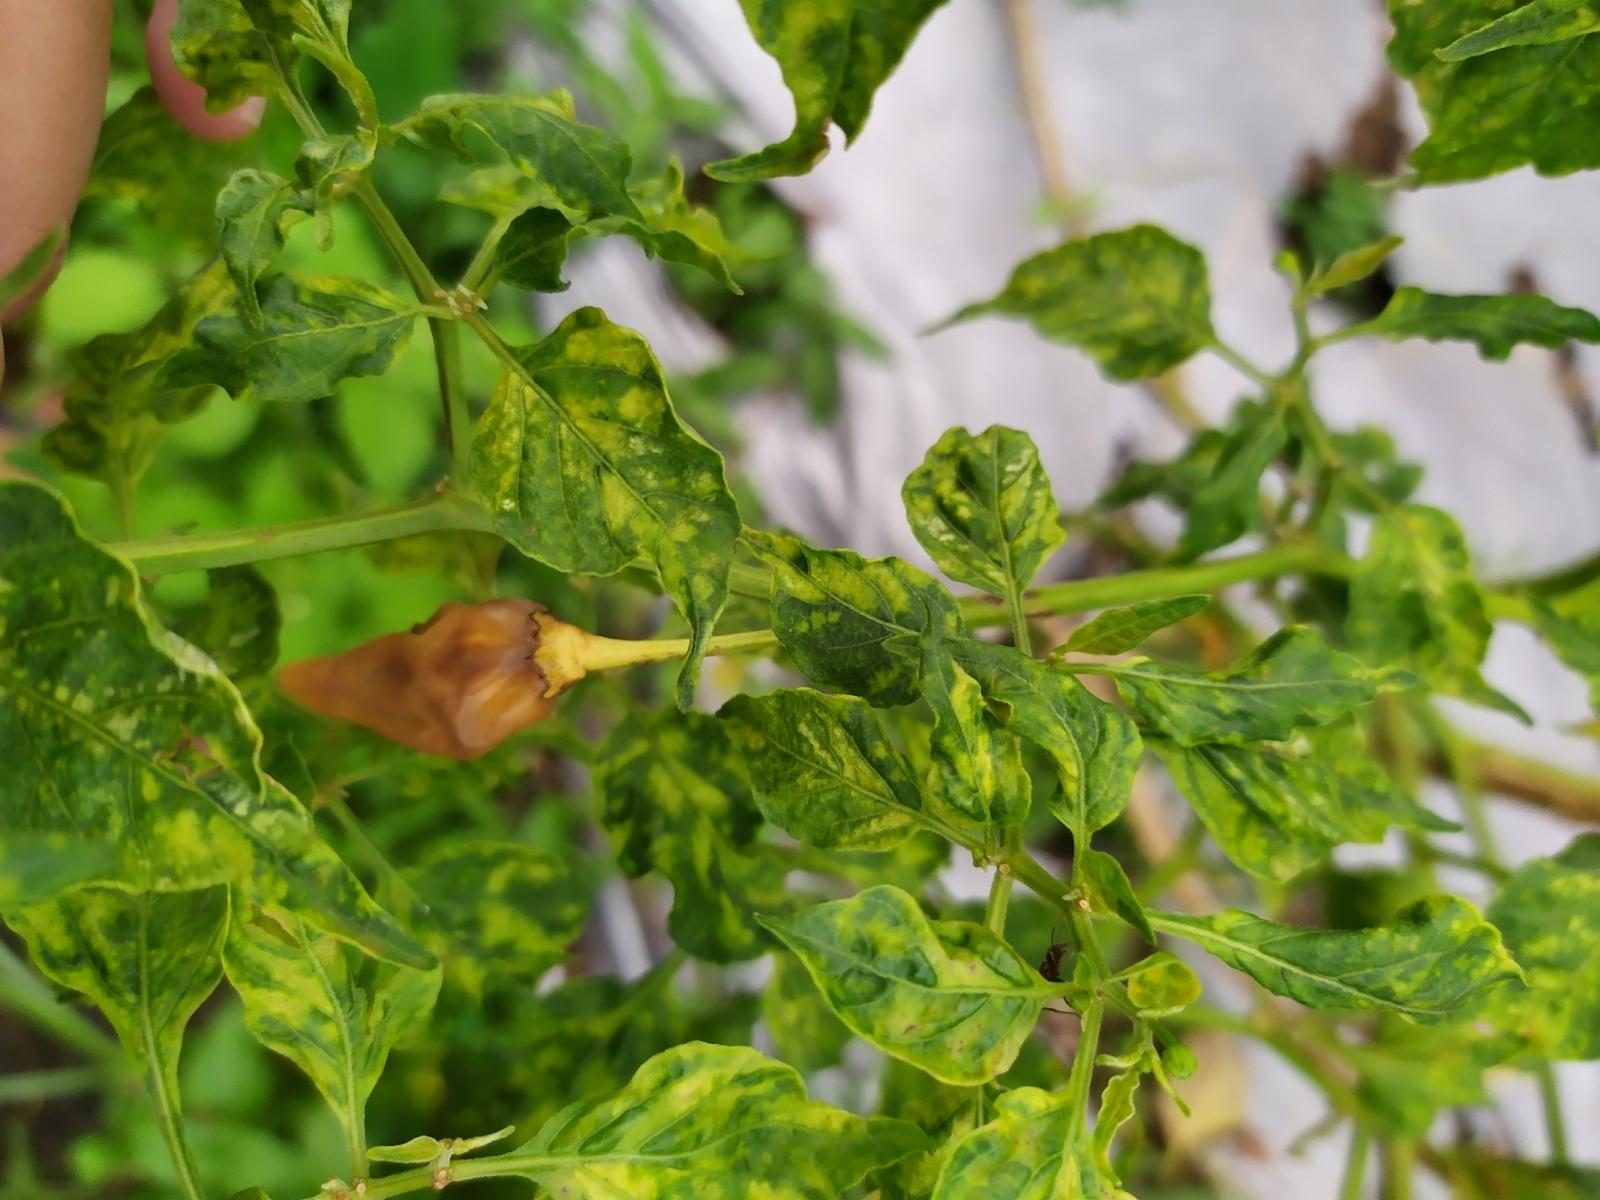lalat_buah: (271, 595, 564, 760)
